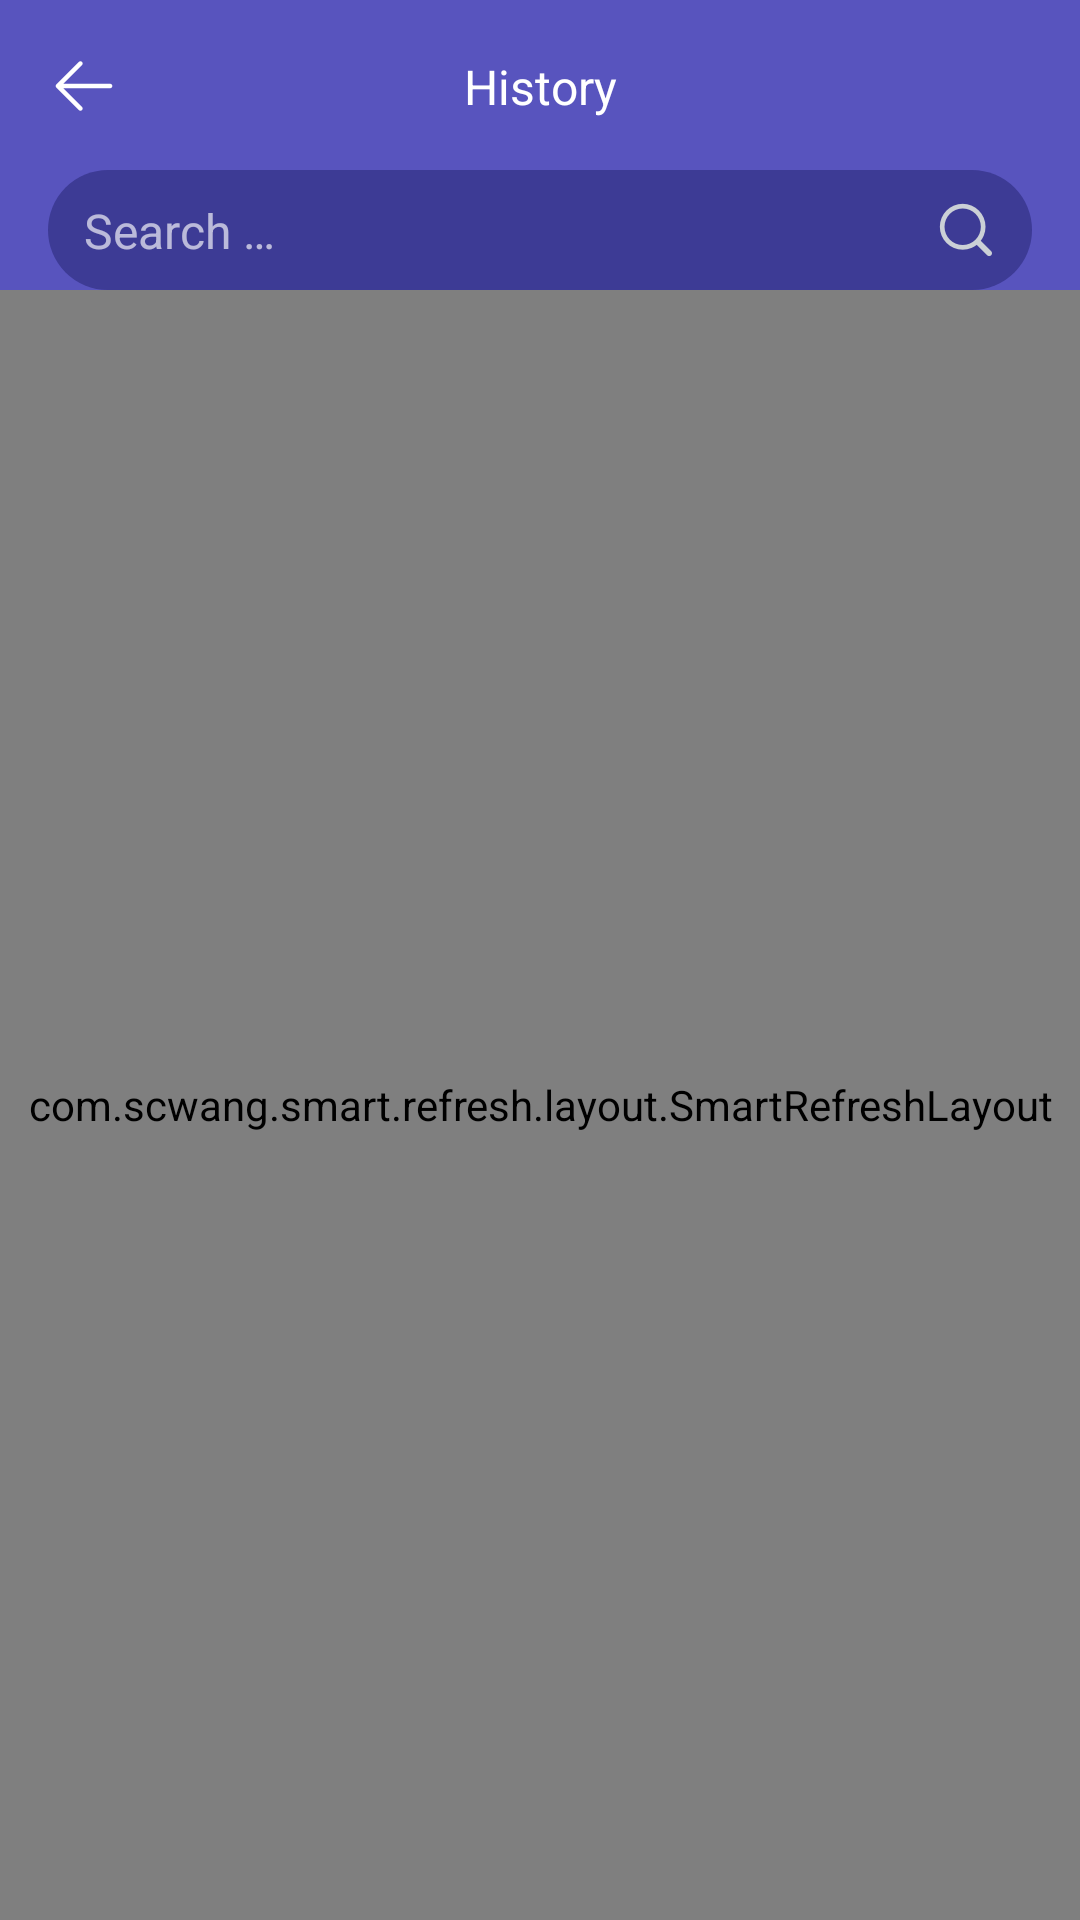

Where icons sit on this 1080px x 1920px app screen, as box=[x1, y1, x2, y2]:
back: box=[55, 61, 113, 111]
